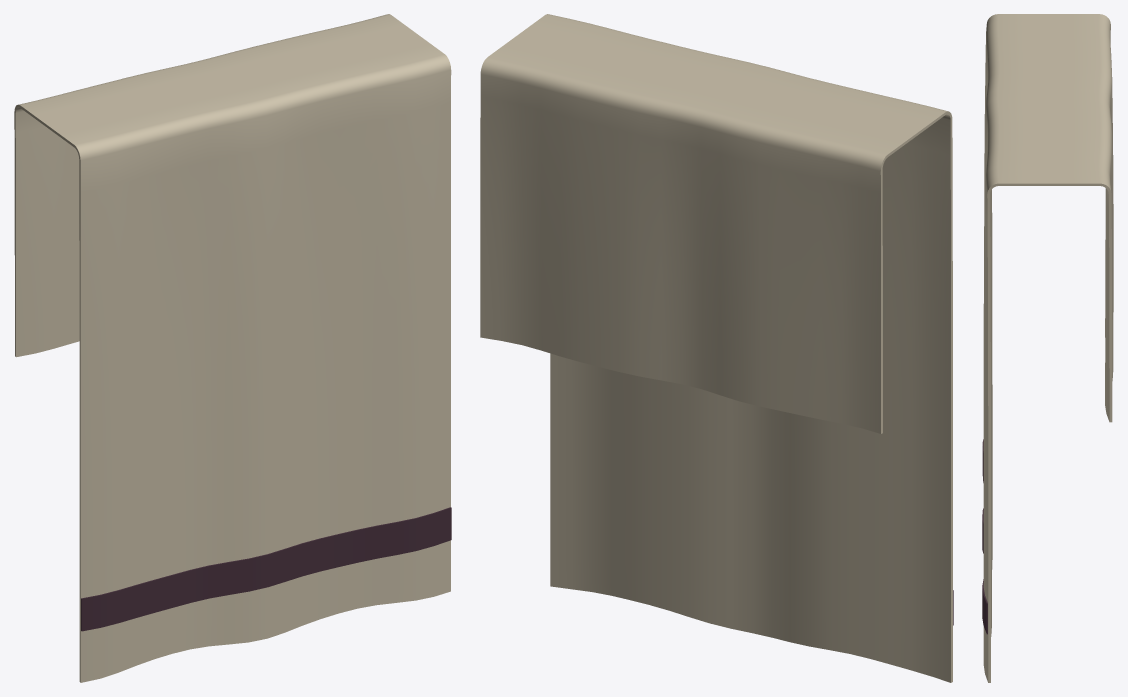
Rendered from towel-draped-white-d7fcd5041cf5.glb.
3 renders of one model, left to right at view 1: azimuth 30°, elevation 25°; view 2: azimuth 150°, elevation 25°; view 3: azimuth 270°, elevation 25°, orthographic. The views are drawn at different scales.
Parts seen in each view (by area): view 1: cloth-cream, cloth-plum; view 2: cloth-cream; view 3: cloth-cream, cloth-plum.
Part boxes in pixels (x1=…): cloth-cream: x1=14, y1=14, x2=451, y2=682; cloth-plum: x1=81, y1=507, x2=451, y2=631; cloth-cream: x1=480, y1=14, x2=952, y2=682; cloth-cream: x1=983, y1=14, x2=1113, y2=682; cloth-plum: x1=982, y1=439, x2=987, y2=634.
Bounding box in the file's own units: 0.36 × 0.494 × 0.118.
